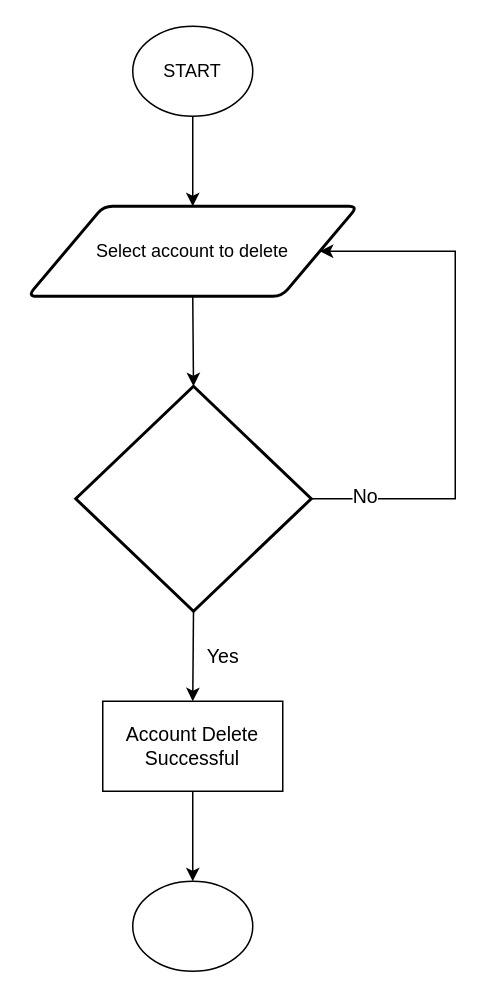
Some shapes in this 494 by 998 pixel diagram are drawn without their labels. Each missing label, with the centre of its shape:
"End" goes at (x=192, y=925).
"The message board confirms that you want to delete it" goes at (x=193, y=498).
